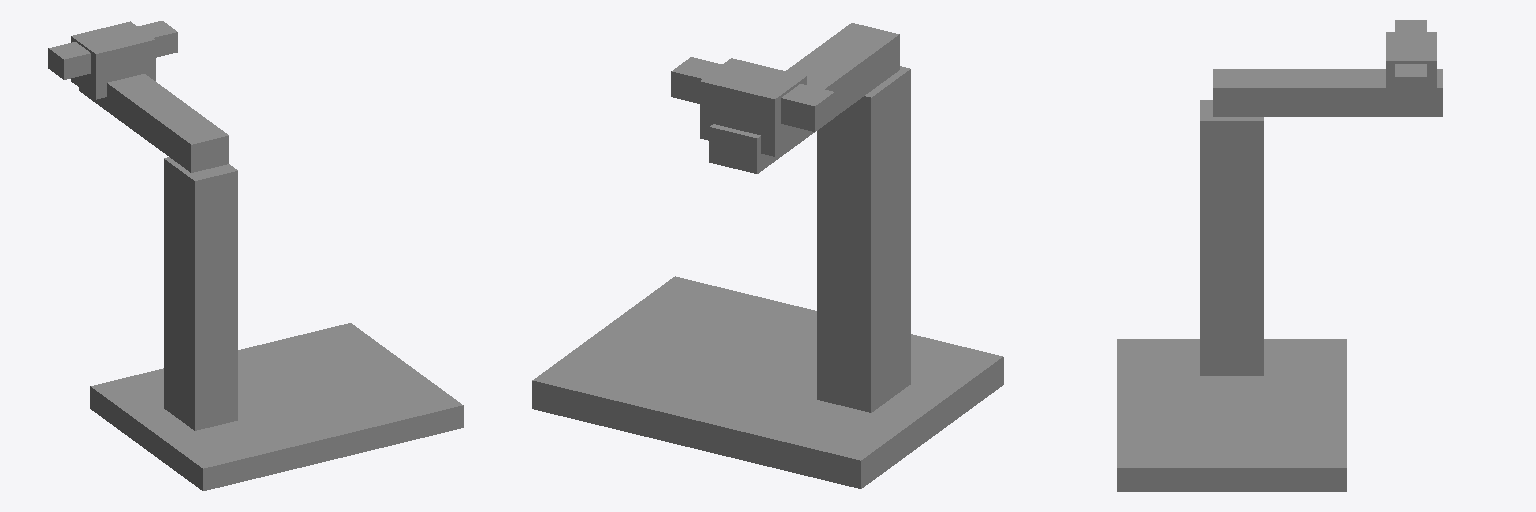
robot.urdf — rotary_slide:
<?xml version='1.0' encoding='utf-8'?>
<robot name="rotary_slide">
  <link name="mast_1">
    <inertial>
      <origin xyz="0 0 -0.10999999999999999" rpy="0 0 0" />
      <mass value="3.4539999999999997" />
      <inertia ixx="0.014650716666666667" iyy="0.014391666666666636" izz="0.0011801166666666613" ixy="0" iyz="0" ixz="0" />
    </inertial>
    <visual>
      <origin xyz="0.07 0 -0.24" rpy="0 0 0" />
      <geometry>
        <mesh filename="package://rotary_slide_description/meshes/mast_1.stl" scale="0.001 0.001 0.001" />
      </geometry>
      <material name="mast_1_material">
        <color rgba="0.6235294117647059 0.6235294117647059 0.6235294117647059 1" />
      </material>
    </visual>
    <collision>
      <origin xyz="0.07 0 -0.24" rpy="0 0 0" />
      <geometry>
        <mesh filename="package://rotary_slide_description/meshes/mast_1.stl" scale="0.001 0.001 0.001" />
      </geometry>
    </collision>
  </link>
  <link name="boom_1_carriage_1_sensor_1">
    <inertial>
      <origin xyz="2.4492935982947068e-18 -0.04000000000000001 0.02899999999999997" rpy="0 0 0" />
      <mass value="0.08831249999999999" />
      <inertia ixx="6.9840468750019535e-06" iyy="6.984046875000219e-06" izz="9.199218749999767e-06" ixy="1.062646893143348e-34" iyz="2.655529440325959e-35" ixz="4.336808689942018e-19" />
    </inertial>
    <visual>
      <origin xyz="-0.14 -0.07000000000000002 -0.255" rpy="0 0 -1.5707963267948966" />
      <geometry>
        <mesh filename="package://rotary_slide_description/meshes/boom_1_carriage_1_sensor_1.stl" scale="0.001 0.001 0.001" />
      </geometry>
      <material name="boom_1_carriage_1_sensor_1_material">
        <color rgba="0.6235294117647059 0.6235294117647059 0.6235294117647059 1" />
      </material>
    </visual>
    <collision>
      <origin xyz="-0.14 -0.07000000000000002 -0.255" rpy="0 0 -1.5707963267948966" />
      <geometry>
        <mesh filename="package://rotary_slide_description/meshes/boom_1_carriage_1_sensor_1.stl" scale="0.001 0.001 0.001" />
      </geometry>
    </collision>
  </link>
  <link name="boom_1_carriage_1_sensor_2">
    <inertial>
      <origin xyz="-2.449293598294706e-18 0.039999999999999994 0.02899999999999997" rpy="0 0 0" />
      <mass value="0.08831249999999999" />
      <inertia ixx="6.984046875000219e-06" iyy="6.984046875000219e-06" izz="9.19921874999955e-06" ixy="2.168404344971009e-19" iyz="4.336808689942018e-19" ixz="4.3368086899420173e-19" />
    </inertial>
    <visual>
      <origin xyz="-0.14 -0.07000000000000002 -0.255" rpy="0 0 -1.5707963267948966" />
      <geometry>
        <mesh filename="package://rotary_slide_description/meshes/boom_1_carriage_1_sensor_2.stl" scale="0.001 0.001 0.001" />
      </geometry>
      <material name="boom_1_carriage_1_sensor_2_material">
        <color rgba="0.6235294117647059 0.6235294117647059 0.6235294117647059 1" />
      </material>
    </visual>
    <collision>
      <origin xyz="-0.14 -0.07000000000000002 -0.255" rpy="0 0 -1.5707963267948966" />
      <geometry>
        <mesh filename="package://rotary_slide_description/meshes/boom_1_carriage_1_sensor_2.stl" scale="0.001 0.001 0.001" />
      </geometry>
    </collision>
  </link>
  <link name="boom_1_carriage_1">
    <inertial>
      <origin xyz="-2.7755575615628914e-17 -1.387778780781446e-17 0.020000000000000018" rpy="0 0 0" />
      <mass value="0.6908" />
      <inertia ixx="0.00026624583333332424" iyy="0.00018421333333333567" izz="0.00026624583333333465" ixy="-8.623386960608514e-19" iyz="1.7347234759768075e-18" ixz="3.469446951953614e-18" />
    </inertial>
    <visual>
      <origin xyz="-0.14 -0.07000000000000002 -0.255" rpy="0 0 -1.5707963267948966" />
      <geometry>
        <mesh filename="package://rotary_slide_description/meshes/boom_1_carriage_1.stl" scale="0.001 0.001 0.001" />
      </geometry>
      <material name="boom_1_carriage_1_material">
        <color rgba="0.6235294117647059 0.6235294117647059 0.6235294117647059 1" />
      </material>
    </visual>
    <collision>
      <origin xyz="-0.14 -0.07000000000000002 -0.255" rpy="0 0 -1.5707963267948966" />
      <geometry>
        <mesh filename="package://rotary_slide_description/meshes/boom_1_carriage_1.stl" scale="0.001 0.001 0.001" />
      </geometry>
    </collision>
  </link>
  <link name="boom_1">
    <inertial>
      <origin xyz="0.07500000000000001 4.592425496802575e-18 0.015000000000000013" rpy="0 0 0" />
      <mass value="1.2363750000000002" />
      <inertia ixx="0.00019060781249999326" iyy="0.0034026070312500045" izz="0.0034644257812500006" ixy="6.706835098831035e-19" iyz="3.469446951953614e-18" ixz="-2.1244235522607673e-34" />
    </inertial>
    <visual>
      <origin xyz="4.286263797015737e-18 -0.07 -0.24" rpy="0 0 -1.5707963267948966" />
      <geometry>
        <mesh filename="package://rotary_slide_description/meshes/boom_1.stl" scale="0.001 0.001 0.001" />
      </geometry>
      <material name="boom_1_material">
        <color rgba="0.6235294117647059 0.6235294117647059 0.6235294117647059 1" />
      </material>
    </visual>
    <collision>
      <origin xyz="4.286263797015737e-18 -0.07 -0.24" rpy="0 0 -1.5707963267948966" />
      <geometry>
        <mesh filename="package://rotary_slide_description/meshes/boom_1.stl" scale="0.001 0.001 0.001" />
      </geometry>
    </collision>
  </link>
  <link name="base_link">
    <inertial>
      <origin xyz="0 0 0.01" rpy="0 0 0" />
      <mass value="6.782399999999999" />
      <inertia ixx="0.01853856" iyy="0.0327816" izz="0.050868" ixy="0" iyz="0" ixz="0" />
    </inertial>
    <visual>
      <origin xyz="0 0 0" rpy="0 0 0" />
      <geometry>
        <mesh filename="package://rotary_slide_description/meshes/base_link.stl" scale="0.001 0.001 0.001" />
      </geometry>
      <material name="base_link_material">
        <color rgba="0.6235294117647059 0.6235294117647059 0.6235294117647059 1" />
      </material>
    </visual>
    <collision>
      <origin xyz="0 0 0" rpy="0 0 0" />
      <geometry>
        <mesh filename="package://rotary_slide_description/meshes/base_link.stl" scale="0.001 0.001 0.001" />
      </geometry>
    </collision>
  </link>
  <joint name="rigid_attachment_mast_1" type="fixed">
    <origin xyz="-0.07 0 0.24" rpy="0 0 0" />
    <parent link="base_link" />
    <child link="mast_1" />
  </joint>
  <joint name="turn" type="revolute">
    <origin xyz="0 0 0" rpy="0 0 1.5707963267948966" />
    <parent link="mast_1" />
    <child link="boom_1" />
    <axis xyz="0 0 1" />
    <limit effort="100" velocity="100" lower="-1.0471975511965976" upper="1.5707963267948966" />
  </joint>
  <joint name="boom_1_extend" type="prismatic">
    <origin xyz="0.14 8.572527594031473e-18 0.015000000000000013" rpy="0 0 0" />
    <parent link="boom_1" />
    <child link="boom_1_carriage_1" />
    <axis xyz="1 0 0" />
    <limit effort="100" velocity="100" lower="-0.02" upper="0.04" />
  </joint>
  <joint name="boom_1_carriage_1_sensor_mount_1" type="fixed">
    <origin xyz="0 0 0" rpy="0 0 0" />
    <parent link="boom_1_carriage_1" />
    <child link="boom_1_carriage_1_sensor_1" />
  </joint>
  <joint name="boom_1_carriage_1_sensor_mount_2" type="fixed">
    <origin xyz="0 0 0" rpy="0 0 0" />
    <parent link="boom_1_carriage_1" />
    <child link="boom_1_carriage_1_sensor_2" />
  </joint>
  <ros2_control name="rotary_slide_system" type="system">
    <hardware>
      <plugin>mock_components/GenericSystem</plugin>
    </hardware>
    <joint name="turn">
      <command_interface name="position" />
      <state_interface name="position">
        <param name="initial_value">0</param>
      </state_interface>
      <state_interface name="velocity">
        <param name="initial_value">0</param>
      </state_interface>
    </joint>
    <joint name="boom_1_extend">
      <command_interface name="position" />
      <state_interface name="position">
        <param name="initial_value">0</param>
      </state_interface>
      <state_interface name="velocity">
        <param name="initial_value">0</param>
      </state_interface>
    </joint>
  </ros2_control>
</robot>

--- Facts derived from the render (not from the file) ---
Views: 3 orthographic renders of the robot side by side, from view 1: azimuth 30°, elevation 25°; view 2: azimuth 150°, elevation 25°; view 3: azimuth 270°, elevation 25°.
Model rotary_slide with 6 links and 5 joints (1 revolute, 1 prismatic, 3 fixed), rooted at base_link, posed all joints at 0.
Visible links, largest first — view 1: base_link, mast_1, boom_1, boom_1_carriage_1, boom_1_carriage_1_sensor_2, boom_1_carriage_1_sensor_1; view 2: base_link, mast_1, boom_1, boom_1_carriage_1, boom_1_carriage_1_sensor_2, boom_1_carriage_1_sensor_1; view 3: base_link, mast_1, boom_1, boom_1_carriage_1, boom_1_carriage_1_sensor_1.
Link boxes in pixels (<box>): base_link: <box>90,323,463,490</box>; mast_1: <box>164,157,237,430</box>; boom_1: <box>79,74,228,172</box>; boom_1_carriage_1: <box>71,21,155,99</box>; boom_1_carriage_1_sensor_2: <box>48,42,90,79</box>; boom_1_carriage_1_sensor_1: <box>138,21,177,57</box>; base_link: <box>532,276,1003,488</box>; mast_1: <box>817,66,910,412</box>; boom_1: <box>709,23,899,173</box>; boom_1_carriage_1: <box>700,58,806,156</box>; boom_1_carriage_1_sensor_2: <box>781,84,834,131</box>; boom_1_carriage_1_sensor_1: <box>671,57,721,103</box>; base_link: <box>1117,339,1346,491</box>; mast_1: <box>1200,100,1263,375</box>; boom_1: <box>1213,69,1442,116</box>; boom_1_carriage_1: <box>1386,32,1436,107</box>; boom_1_carriage_1_sensor_1: <box>1395,64,1426,97</box>.
Bounding box of the posed robot: 0.2425 × 0.255 × 0.295 m (x, y, z).
Meshes: 6 distinct files referenced, 6 mesh visuals loaded (6 binary STL).
